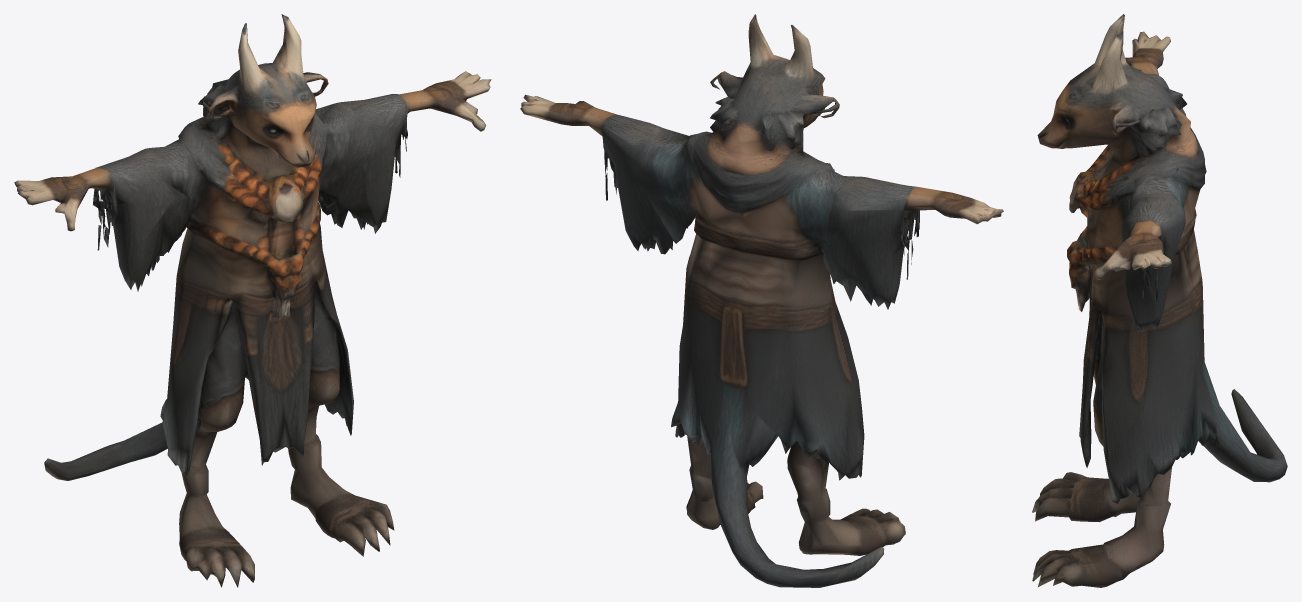
The model's file is kobold_sham.glb.
3 renders of one model, left to right at view 1: azimuth 30°, elevation 25°; view 2: azimuth 150°, elevation 25°; view 3: azimuth 270°, elevation 25°, orthographic.
Size of the model in its own units: 1.9 by 2 by 0.8809.
1 material, 1 textured.
